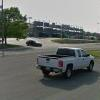Car: (29, 40, 95, 82)
